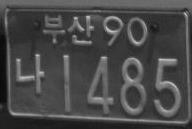0: (126, 15, 147, 47)
1: (53, 54, 80, 113)
4: (86, 56, 114, 115)
5: (153, 57, 181, 118)
8: (118, 56, 148, 116)
9: (101, 15, 124, 46)
나: (15, 53, 44, 96)
부산_O: (42, 14, 94, 45)
